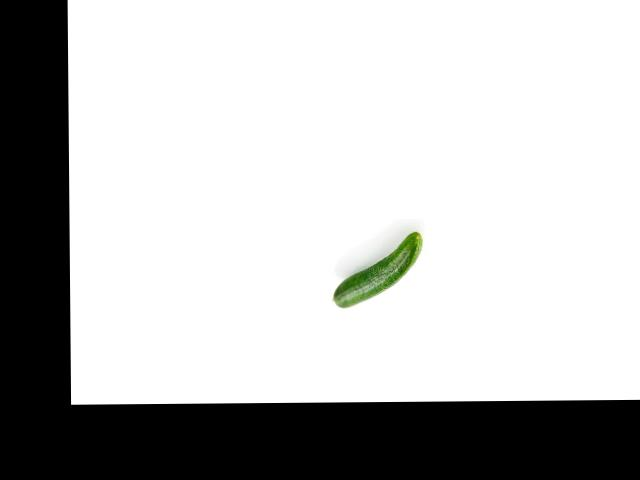cucumber: (332, 231, 422, 307)
